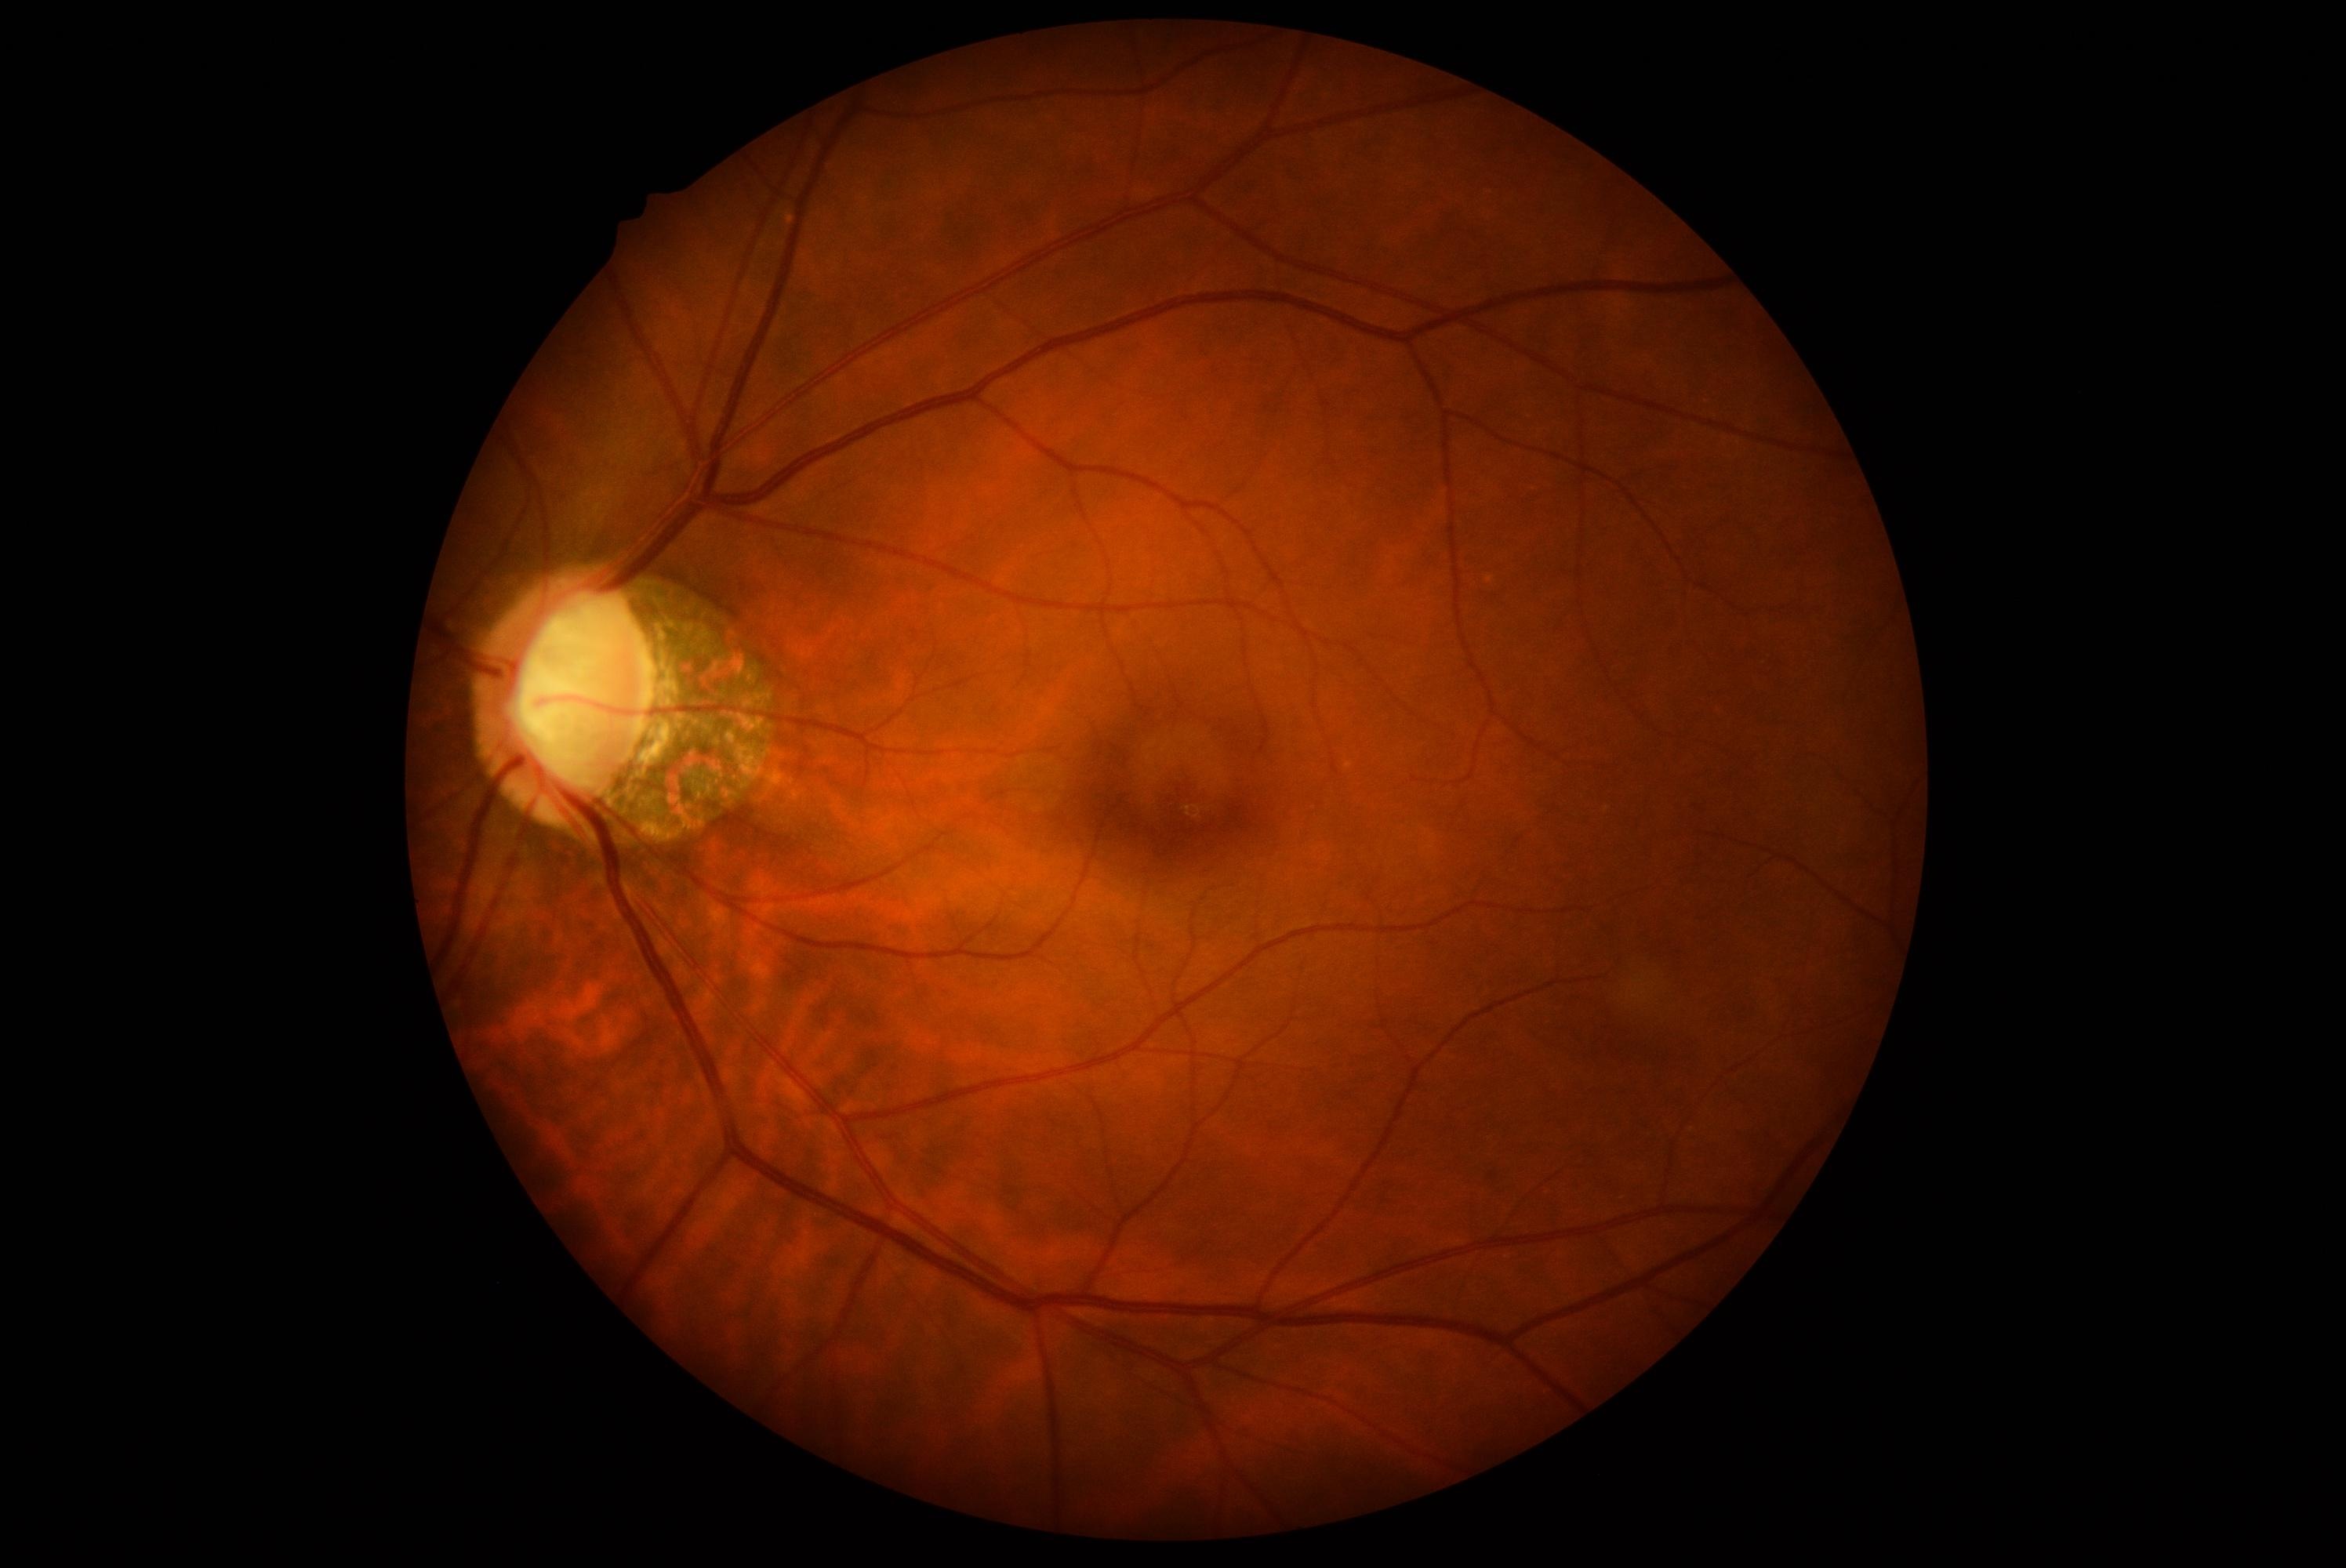Fovea: (1104, 714, 1256, 866)
